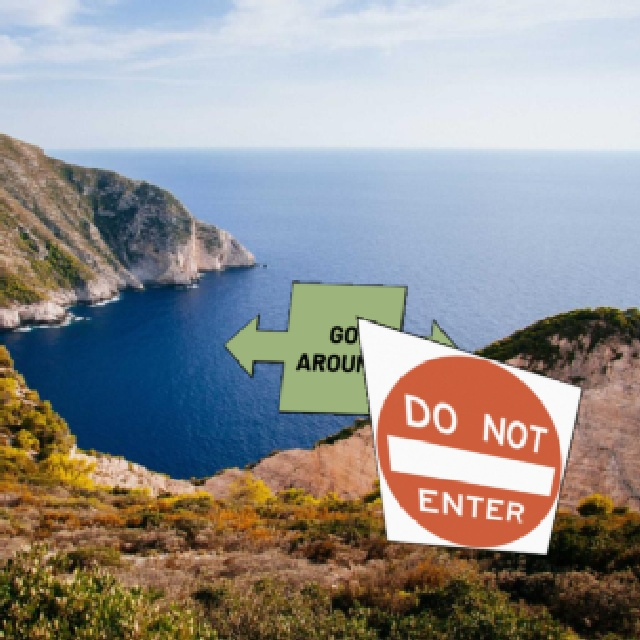DO_NOT_ENTER: (354, 314, 582, 554)
GO_AROUND: (221, 280, 461, 415)
